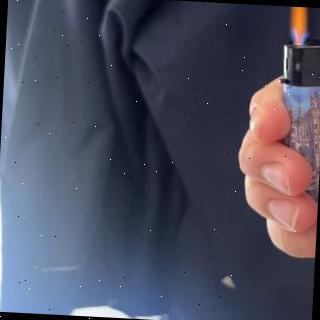fire: (284, 7, 312, 46)
